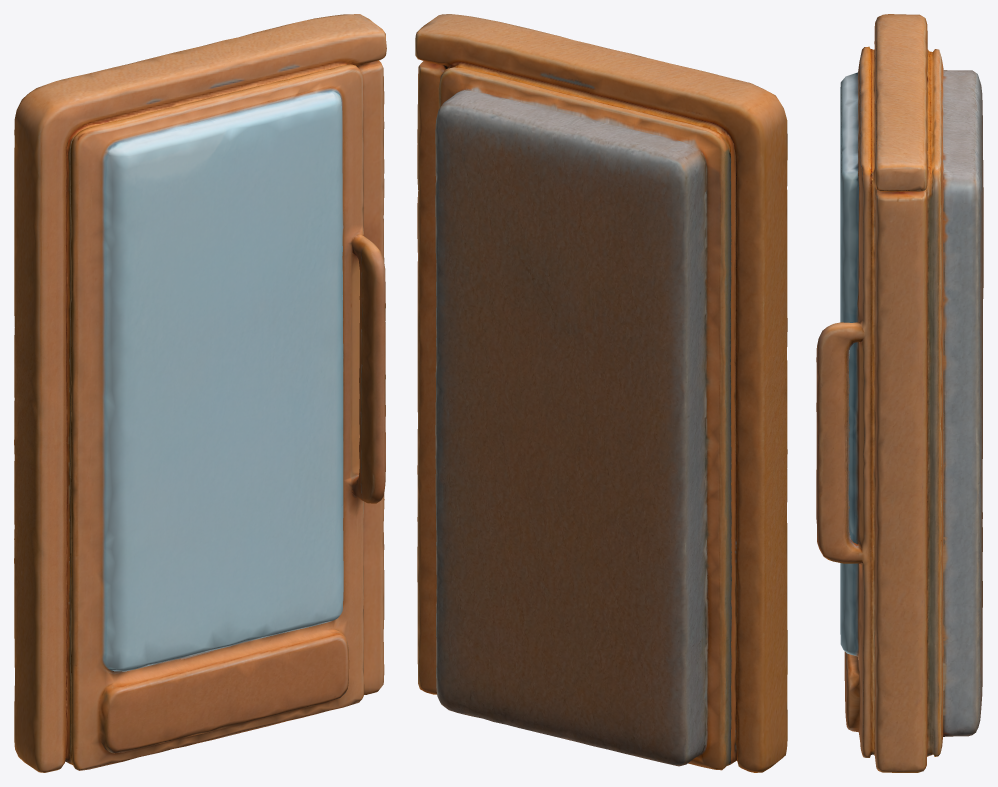
Rendered from P_ShopDoorSmall_h220.fbx.
The picture shows the model from 3 angles, left to right: view 1: azimuth 30°, elevation 25°; view 2: azimuth 150°, elevation 25°; view 3: azimuth 270°, elevation 25°; orthographic projection. The views are drawn at different scales.
Visible parts, largest first — view 1: texture_mapping; view 2: texture_mapping; view 3: texture_mapping.
Part boxes in pixels (box(x1,y1,x2,y2)): texture_mapping: box(14, 14, 386, 772); texture_mapping: box(415, 14, 787, 772); texture_mapping: box(816, 14, 983, 772).
Bounding box in the file's own units: 0.5493 × 0.2464 × 1.
1 material, 1 textured.
